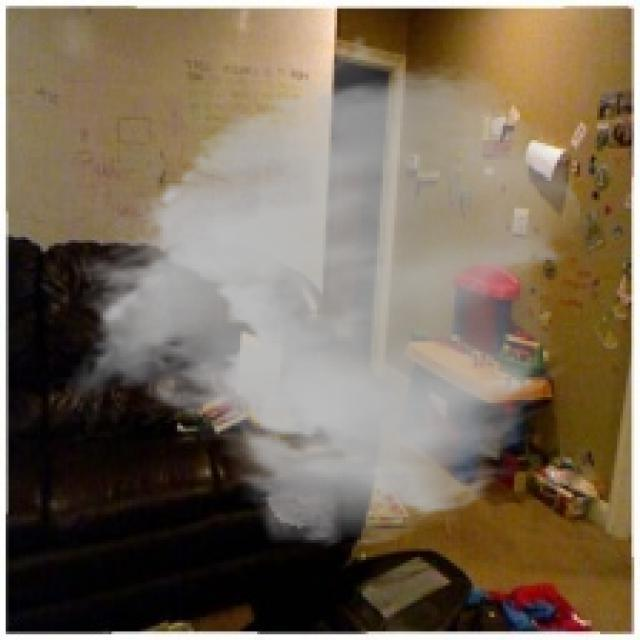Smoke: (63, 34, 586, 552)
